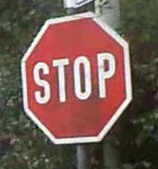stop: (20, 12, 130, 143)
